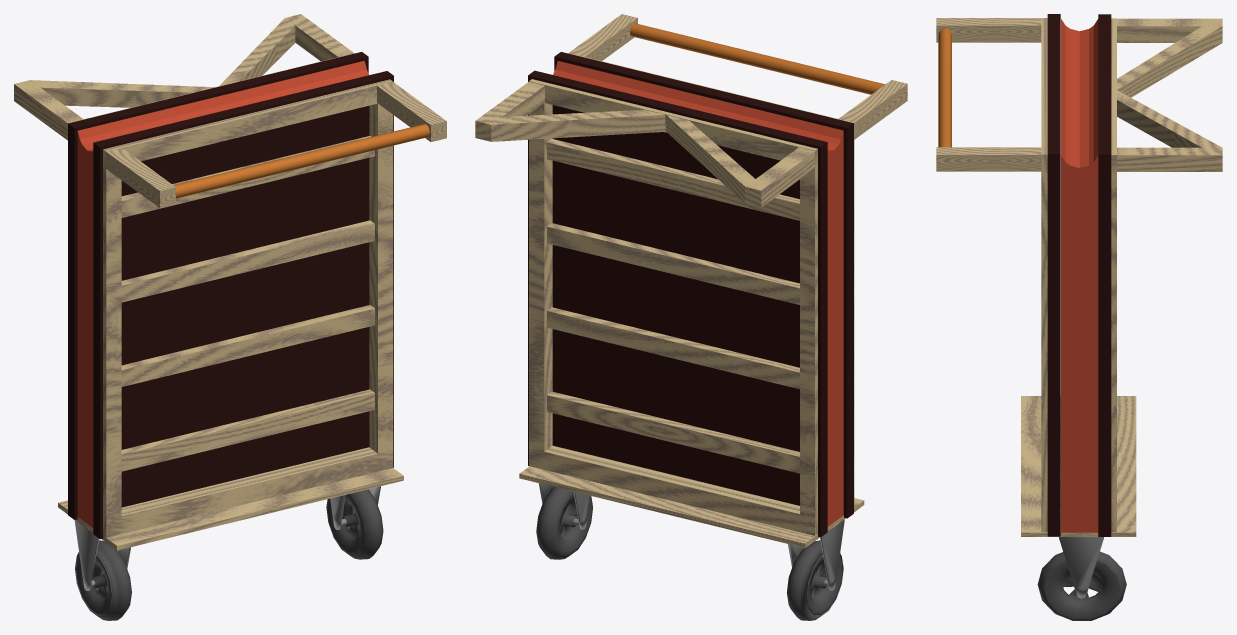
Rendered from modelo2_habican.glb.
The picture shows the model from 3 angles, left to right: view 1: azimuth 30°, elevation 25°; view 2: azimuth 150°, elevation 25°; view 3: azimuth 270°, elevation 25°; orthographic projection. The views are drawn at different scales.
Parts seen in each view (by area): view 1: Cube.002, base m1.004, tabla m1.004, tela doblada m1, patita m1.008, Cube.003, ruedas m1.002, tabla base m1.002, Cylinder.002, patita m1.007, patita m1.003, cubre ruedas m1.002; view 2: Cube.003, base m1.005, tabla m1.005, tela doblada m1, patita m1.008, Cube.002, ruedas m1.002, tabla base m1.002, Cylinder.002, cubre ruedas m1.002, patita m1.007, patita m1.003 (+1 smaller); view 3: tela doblada m1, patita m1.008, Cube.002, Cube.003, tabla base m1.002, ruedas m1.002, base m1.004, base m1.005, patita m1.003, patita m1.007, cubre ruedas m1.002, Cylinder.002.
Part boxes in pixels (<box>): Cube.002: <box>93,71,393,538</box>; base m1.004: <box>103,79,393,537</box>; tabla m1.004: <box>121,136,374,471</box>; tela doblada m1: <box>77,61,369,527</box>; patita m1.008: <box>14,14,353,140</box>; Cube.003: <box>68,52,368,519</box>; ruedas m1.002: <box>75,489,383,620</box>; tabla base m1.002: <box>58,468,403,550</box>; Cylinder.002: <box>173,124,429,198</box>; patita m1.007: <box>106,148,175,208</box>; patita m1.003: <box>377,82,446,141</box>; cubre ruedas m1.002: <box>74,486,380,590</box>; Cube.003: <box>528,70,827,537</box>; base m1.005: <box>529,79,817,535</box>; tabla m1.005: <box>547,139,799,473</box>; tela doblada m1: <box>553,61,843,526</box>; patita m1.008: <box>475,81,814,207</box>; Cube.002: <box>554,52,853,518</box>; ruedas m1.002: <box>536,487,843,620</box>; tabla base m1.002: <box>519,466,864,547</box>; Cylinder.002: <box>630,23,884,94</box>; cubre ruedas m1.002: <box>539,483,844,590</box>; patita m1.007: <box>838,80,907,139</box>; patita m1.003: <box>569,14,637,60</box>; tela doblada m1: <box>1061,19,1098,532</box>; patita m1.008: <box>1117,18,1222,171</box>; Cube.002: <box>1047,14,1060,536</box>; Cube.003: <box>1098,14,1111,536</box>; tabla base m1.002: <box>1021,396,1136,536</box>; ruedas m1.002: <box>1037,551,1126,620</box>; base m1.004: <box>1041,18,1047,531</box>; base m1.005: <box>1111,18,1116,532</box>; patita m1.003: <box>936,147,1041,171</box>; patita m1.007: <box>936,18,1041,42</box>; cubre ruedas m1.002: <box>1059,537,1103,598</box>; Cylinder.002: <box>938,28,951,147</box>.
Size of the model in its own units: 1.49 by 2.36 by 1.28.
6 materials, 1 textured.
